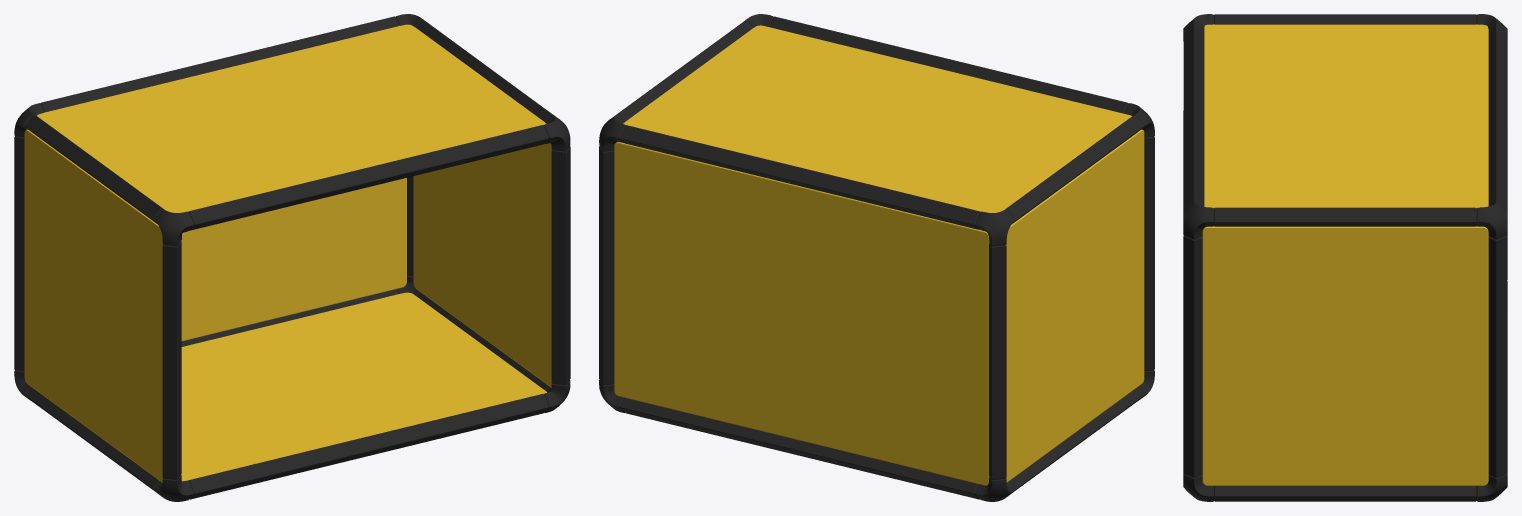
3 views of the same model, side by side, from view 1: azimuth 30°, elevation 25°; view 2: azimuth 150°, elevation 25°; view 3: azimuth 270°, elevation 25° (orthographic).
Parts seen in each view (by area): view 1: 523x329x329; view 2: 523x329x329; view 3: 523x329x329.
Boxes of the visible parts, left/top/right/bottom form: 523x329x329: left=14, top=14, right=570, bottom=501; 523x329x329: left=599, top=14, right=1154, bottom=501; 523x329x329: left=1183, top=14, right=1507, bottom=501.
Bounding box in the file's own units: 0.6007 × 0.4067 × 0.4062.
